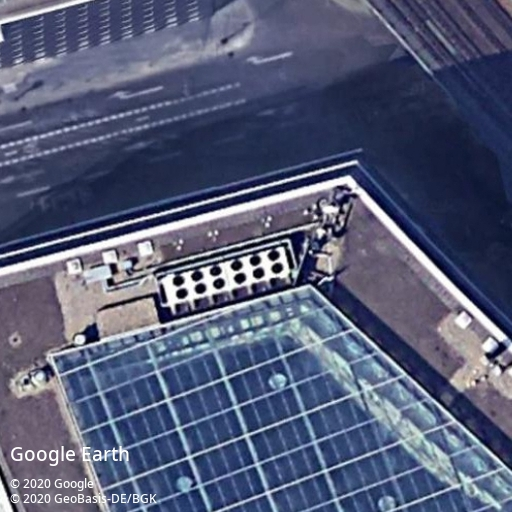Chiller: (161, 245, 291, 307)
